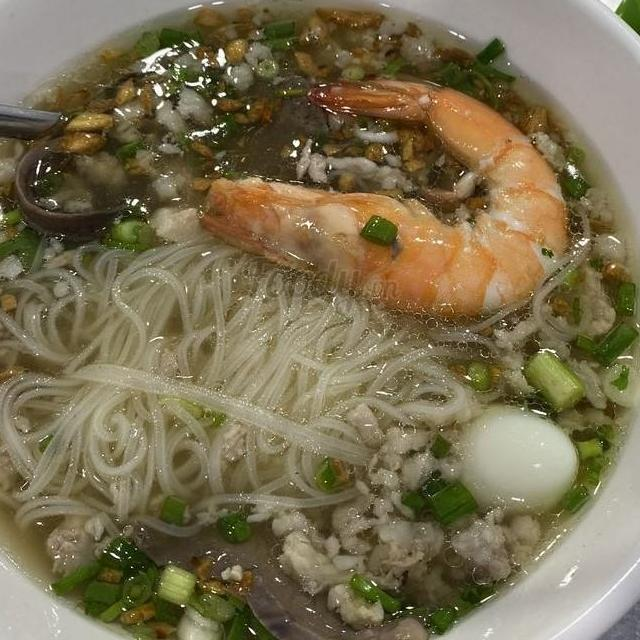gan: (115, 505, 435, 640)
hu tieu: (0, 222, 487, 548)
thit bam: (255, 392, 546, 634), (32, 18, 282, 218), (466, 224, 640, 421), (294, 0, 451, 89), (282, 106, 423, 200), (0, 149, 48, 407)
tom: (194, 70, 580, 323)
trung: (457, 398, 585, 524)
